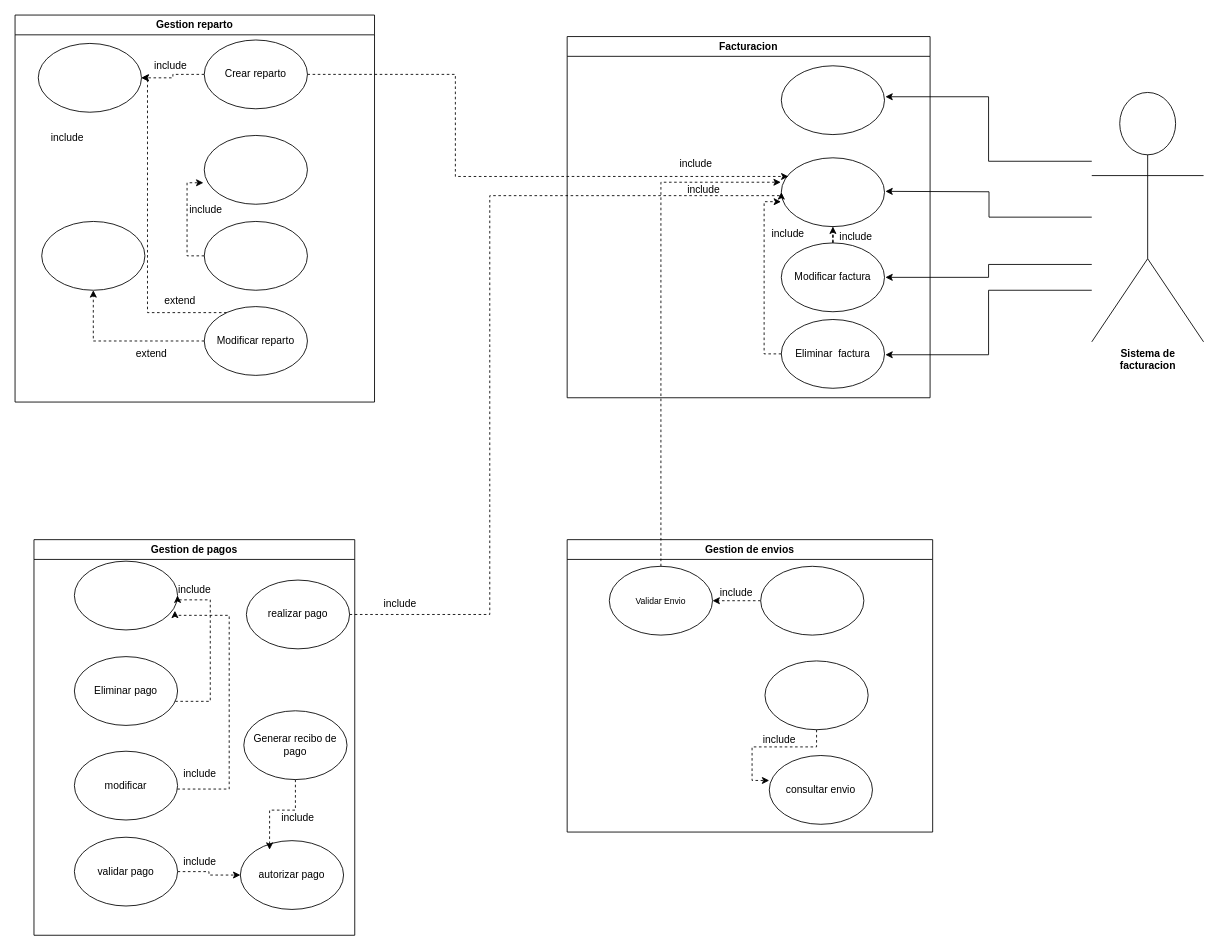
This 1219x950 diagram has some shape labels left out. The shapes that lost their labels are listed below. From the top down, each one's centre as x and y in pixels, then its label:
the point at 89,77: detalles del reparto
the point at 832,100: Generar Factura
the point at 255,169: Consultar estado del reparto
the point at 832,192: Consultar Factura
the point at 93,255: quitar detalles
the point at 255,255: cancelar reparto
the point at 126,595: Consultar Pago
the point at 812,600: Programar Envio
the point at 816,695: Localizar envio
